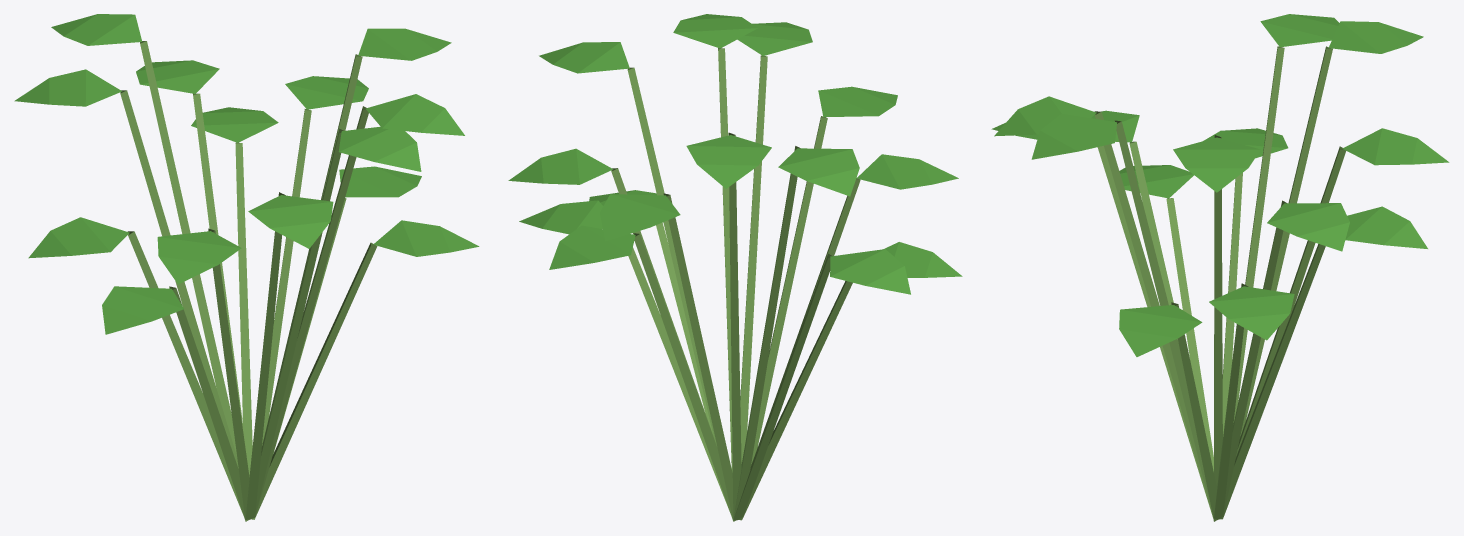
The model's file is cilantro.glb.
The picture shows the model from 3 angles, left to right: view 1: azimuth 30°, elevation 25°; view 2: azimuth 150°, elevation 25°; view 3: azimuth 270°, elevation 25°; orthographic projection. The views are drawn at different scales.
Visible parts, largest first — view 1: cilantro; view 2: cilantro; view 3: cilantro.
Part boxes in pixels (x1,y1,x2,y2): cilantro: (14,14,479,521); cilantro: (508,14,962,521); cilantro: (991,14,1449,521).
Size of the model in its own units: 0.2952 by 0.3165 by 0.2918.
